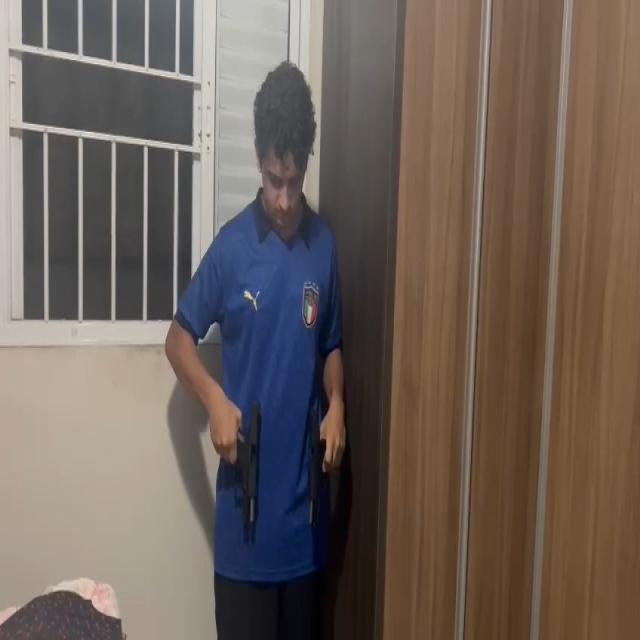gun: (238, 402, 263, 526)
